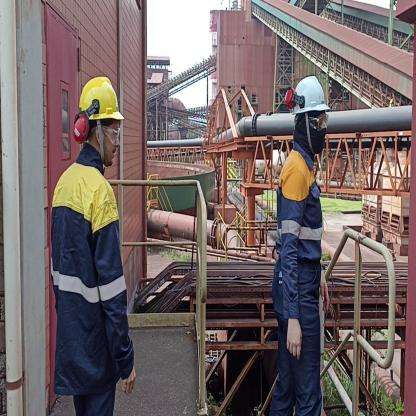C_eletrica: (44, 164, 134, 385)
Capacete: (75, 72, 125, 121), (290, 75, 331, 115)
Operacional: (276, 151, 328, 312)
